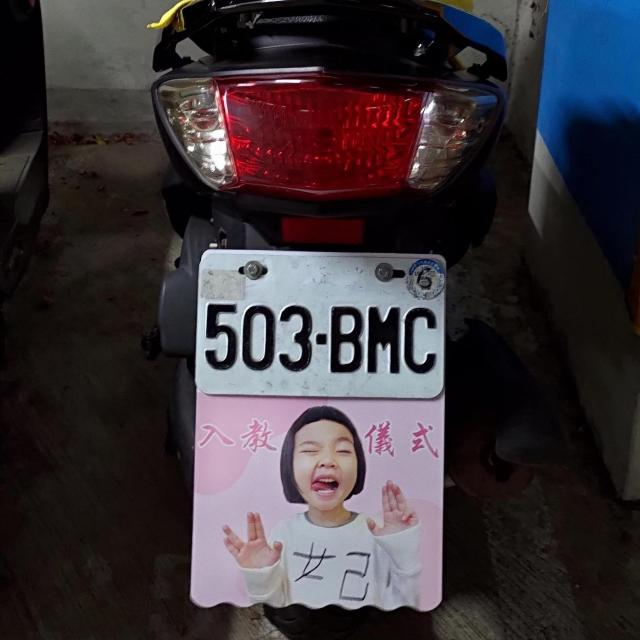W: (194, 247, 444, 398)
